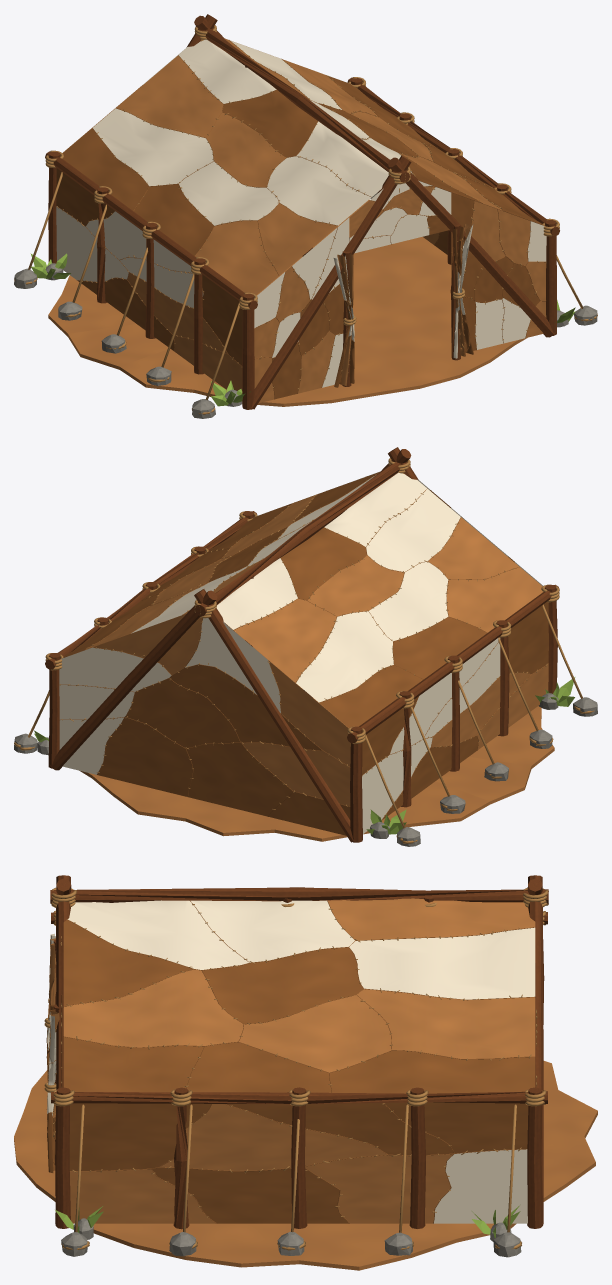
Rendered from large_hide_tent.glb.
3 views of the same model, one above another, from view 1: azimuth 30°, elevation 25°; view 2: azimuth 150°, elevation 25°; view 3: azimuth 270°, elevation 25° (orthographic). The views are drawn at different scales.
Parts seen in each view (by area): view 1: Large tent hide roof irregular hide patch (×3), Sandy island, Front hide side panel irregular hide patch (×3), Large tent side wall irregular hide patch (×3), Wall upright, Raking gable timber, Long eave beam, Hide above front doorway irregular hide patch (×2), Tied doorway hide flap irregular hide patch (×3), Ridge beam, Rope anchor boulder, Exterior tension rope (+6 smaller); view 2: Large tent hide roof irregular hide patch (×3), Closed rear gable irregular hide patch (×3), Large tent side wall irregular hide patch (×3), Sandy island, Raking gable timber, Wall upright, Long eave beam, Ridge beam, Rope anchor boulder, Large tent hide roof uneven seam cord, Exterior tension rope, Eave upright lashing (+4 smaller); view 3: Large tent hide roof irregular hide patch (×3), Large tent side wall irregular hide patch (×3), Sandy island, Wall upright, Ridge beam, Long eave beam, Raking gable timber, Rope anchor boulder, Exterior tension rope, Tied doorway hide flap irregular hide patch (×3), Large tent hide roof uneven seam cord, Eave upright lashing (+4 smaller).
Boxes of the visible parts, <box> form: Large tent hide roof irregular hide patch (×3): <box>60,38,544,294</box>; Sandy island: <box>48,199,527,406</box>; Front hide side panel irregular hide patch (×3): <box>254,192,546,403</box>; Large tent side wall irregular hide patch (×3): <box>56,168,535,390</box>; Wall upright: <box>48,78,556,409</box>; Raking gable timber: <box>186,14,555,409</box>; Long eave beam: <box>45,77,559,309</box>; Hide above front doorway irregular hide patch (×2): <box>349,180,451,253</box>; Tied doorway hide flap irregular hide patch (×3): <box>333,223,473,387</box>; Ridge beam: <box>195,26,409,182</box>; Rope anchor boulder: <box>14,268,597,418</box>; Exterior tension rope: <box>28,172,583,400</box>; Large tent hide roof irregular hide patch (×3): <box>62,472,544,727</box>; Closed rear gable irregular hide patch (×3): <box>59,614,350,835</box>; Large tent side wall irregular hide patch (×3): <box>76,602,548,833</box>; Sandy island: <box>79,632,554,841</box>; Raking gable timber: <box>49,447,418,842</box>; Wall upright: <box>48,511,557,842</box>; Long eave beam: <box>45,511,559,743</box>; Ridge beam: <box>194,461,400,616</box>; Rope anchor boulder: <box>14,697,597,846</box>; Large tent hide roof uneven seam cord: <box>85,473,519,702</box>; Exterior tension rope: <box>28,604,582,828</box>; Eave upright lashing: <box>45,511,559,743</box>; Large tent hide roof irregular hide patch (×3): <box>63,898,535,1093</box>; Large tent side wall irregular hide patch (×3): <box>69,1102,528,1223</box>; Sandy island: <box>14,1061,597,1270</box>; Wall upright: <box>55,939,544,1229</box>; Ridge beam: <box>50,887,548,903</box>; Long eave beam: <box>51,912,547,1104</box>; Raking gable timber: <box>55,875,543,1224</box>; Rope anchor boulder: <box>61,1231,521,1257</box>; Exterior tension rope: <box>75,1104,516,1232</box>; Tied doorway hide flap irregular hide patch (×3): <box>47,933,59,1172</box>; Large tent hide roof uneven seam cord: <box>63,901,534,1092</box>; Eave upright lashing: <box>53,910,546,1106</box>.
Bounding box in the file's own units: 7.9 × 3.7 × 7.43.
Materials: 7 (5 with a texture image).
